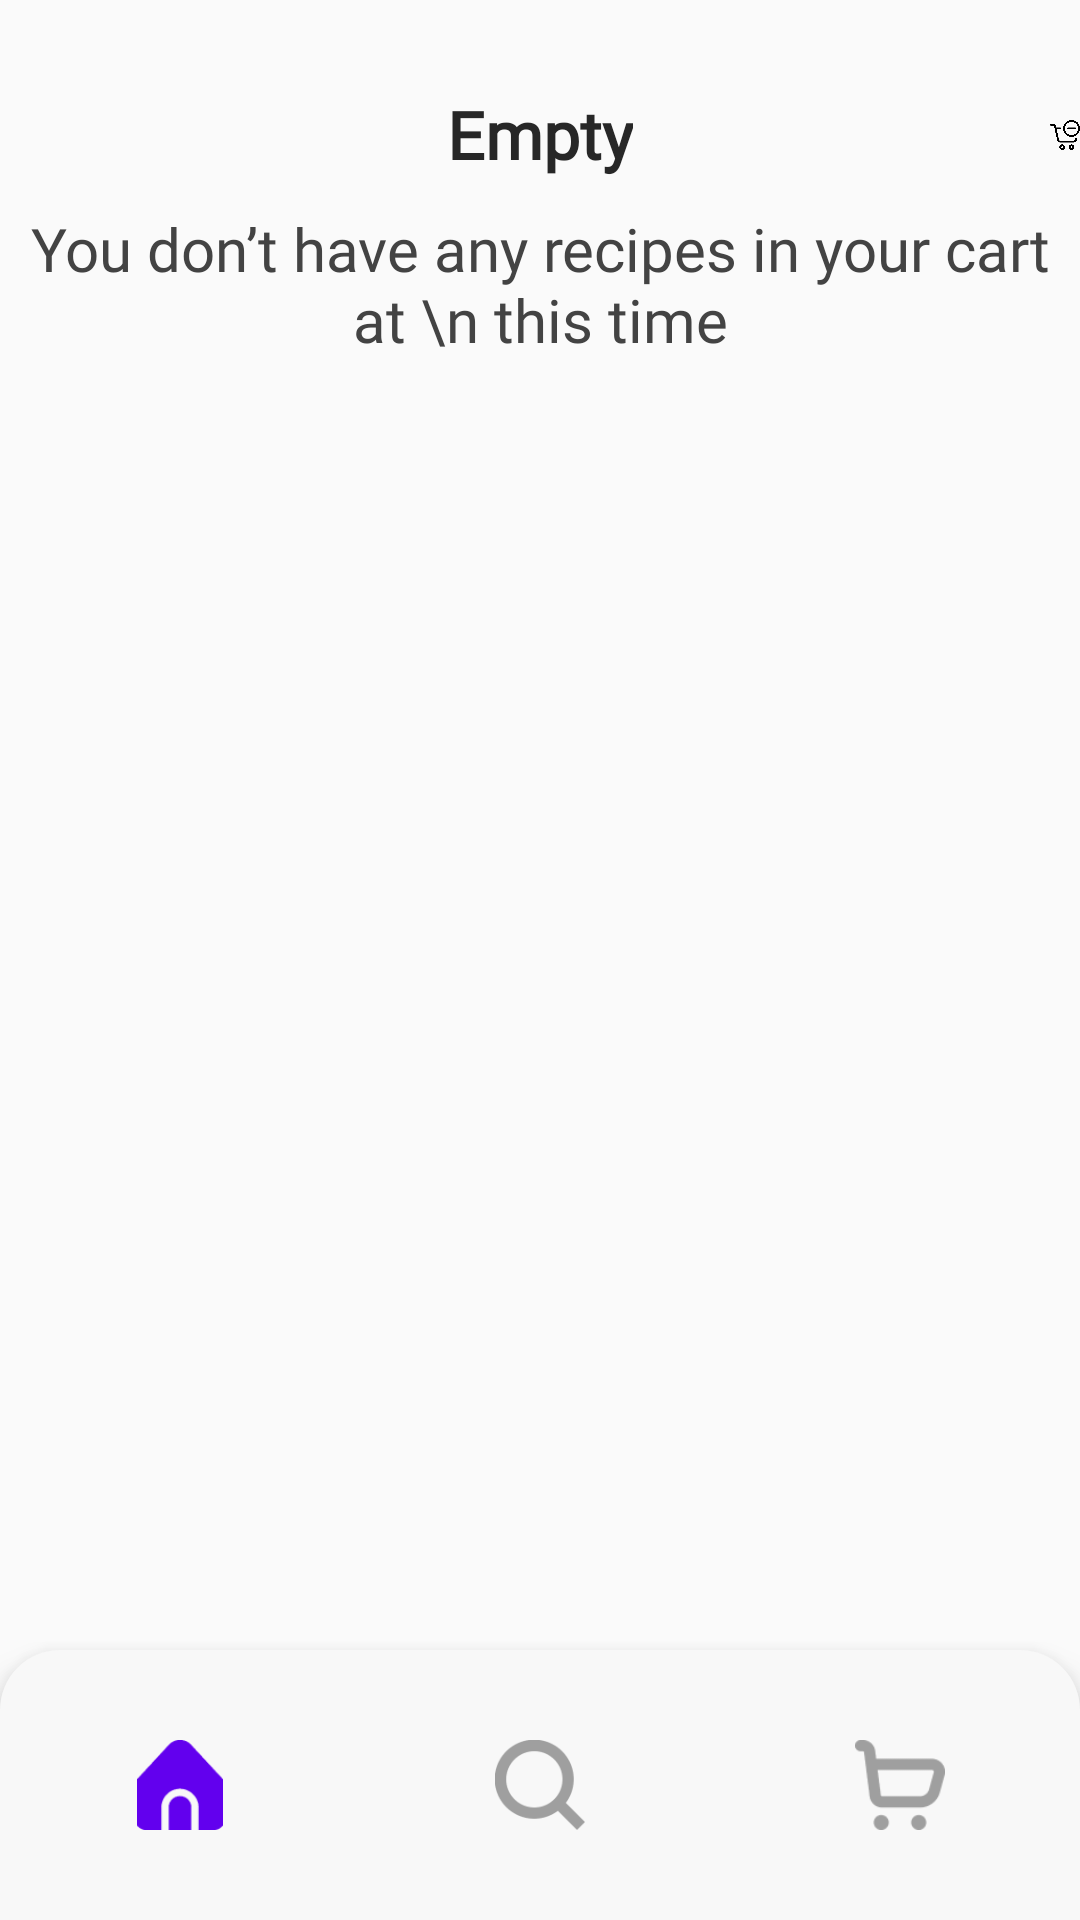

Icons on this 1080×1920 Android screen, each with its box as (x1, y1, x2, y2):
delete shopping cart: (1050, 120, 1080, 150)
